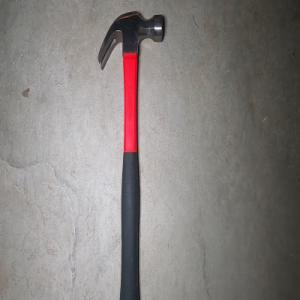Hammer: (97, 9, 164, 300)
